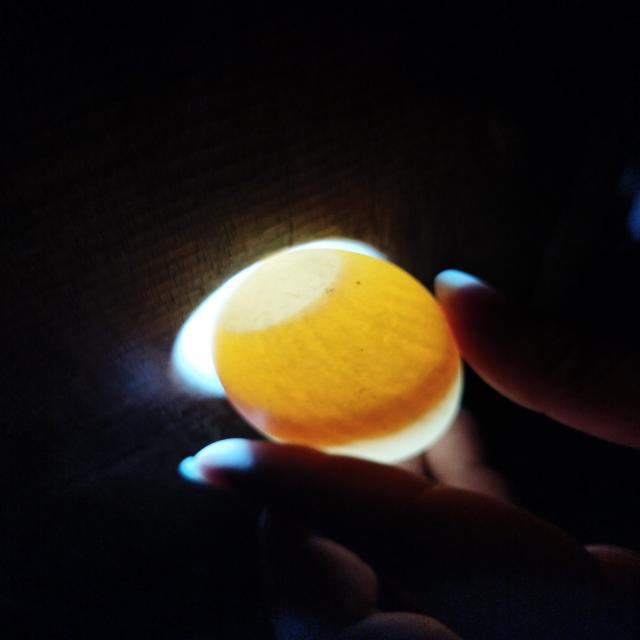Camara de Ar: (215, 249, 342, 330)
Gema Quebrada: (227, 332, 457, 446)
